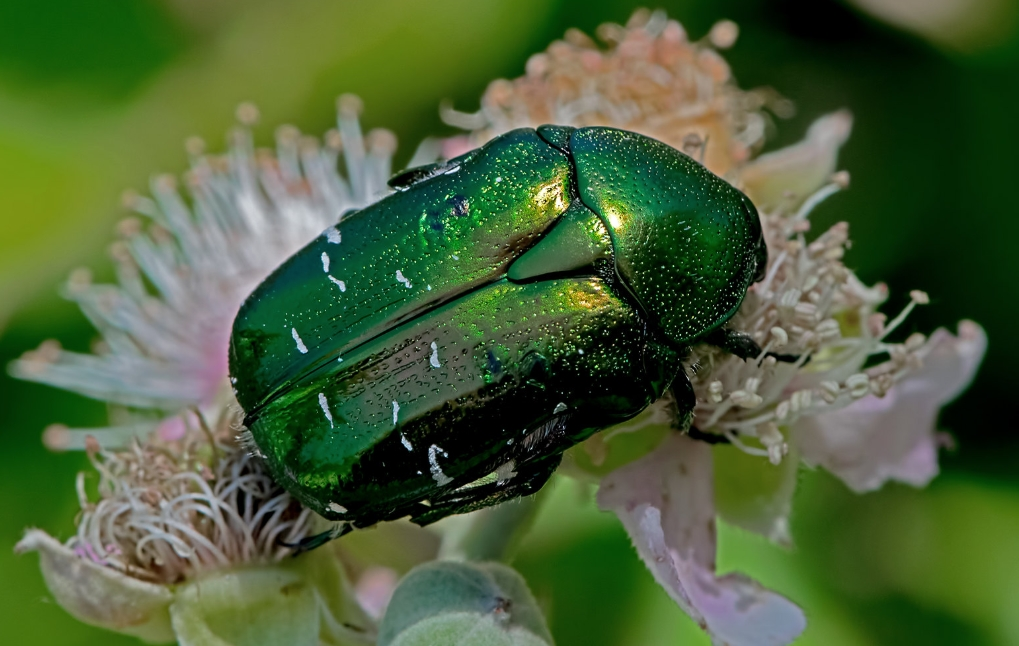Cetonia_aurata: (207, 110, 802, 573)
